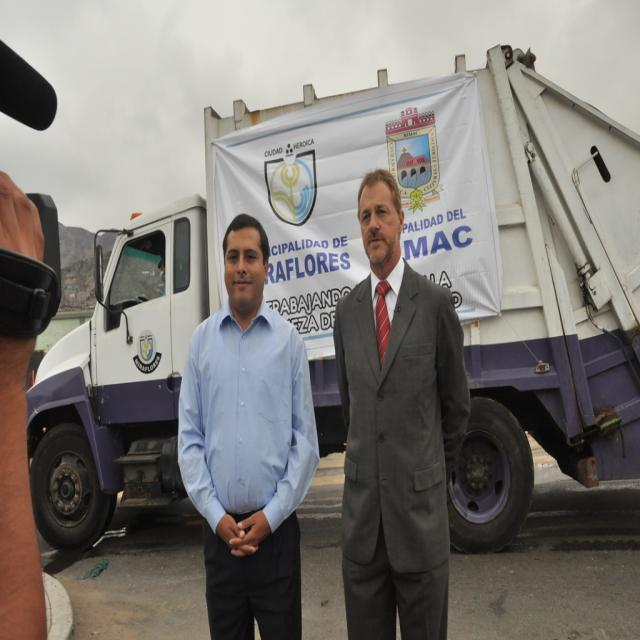bicycle: (78, 61, 628, 562)
